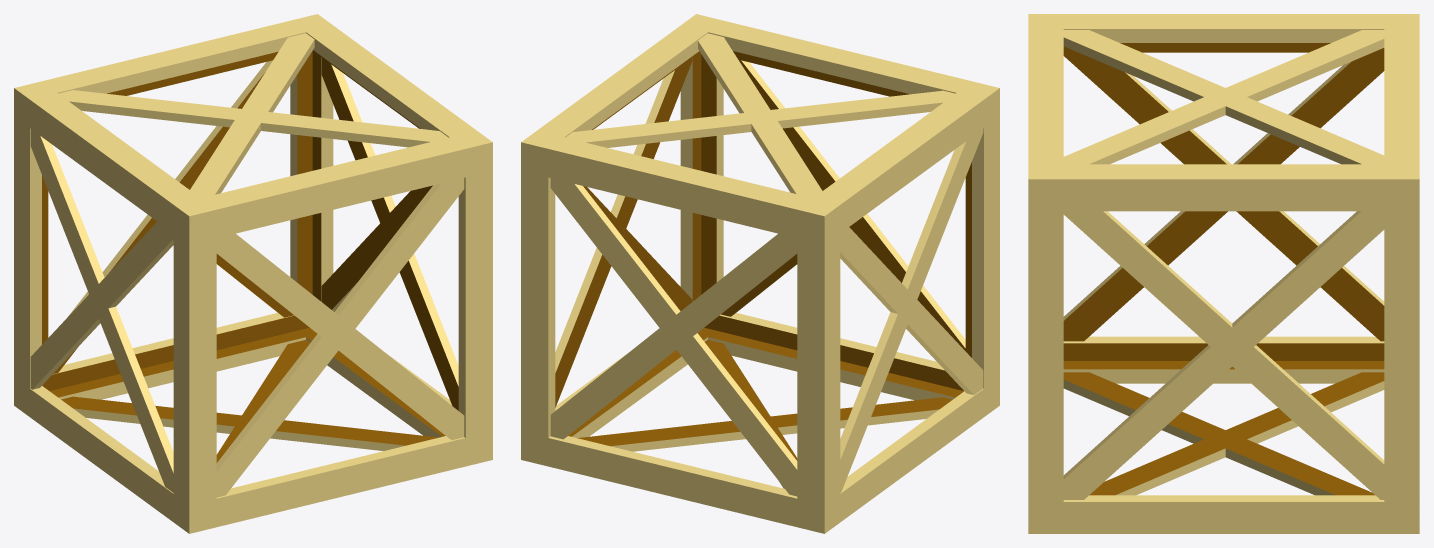
File: POL0210018.fbx
3 renders of one model, left to right at view 1: azimuth 30°, elevation 25°; view 2: azimuth 150°, elevation 25°; view 3: azimuth 270°, elevation 25°, orthographic. The views are drawn at different scales.
Visible parts, largest first — view 1: smPOL0210018; view 2: smPOL0210018; view 3: smPOL0210018.
Part boxes in pixels (bbox=[...]): smPOL0210018: bbox=[14, 14, 492, 533]; smPOL0210018: bbox=[521, 14, 999, 533]; smPOL0210018: bbox=[1028, 14, 1419, 533].
Bounding box in the file's own units: 161 × 161 × 161.
Materials: 1 (1 with a texture image).
